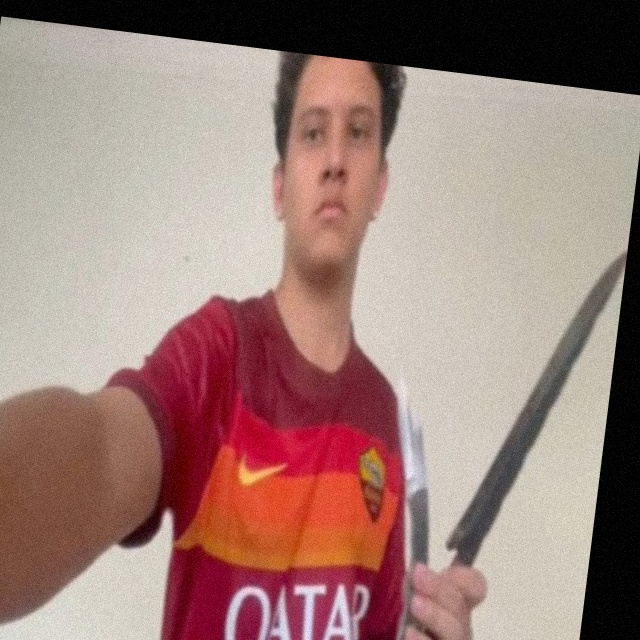Sharp-Object: (445, 233, 628, 569), (383, 374, 444, 501)
